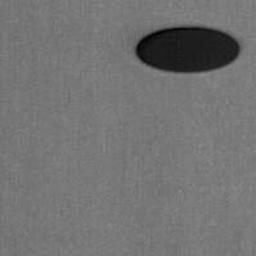Punching: (136, 27, 239, 73)
